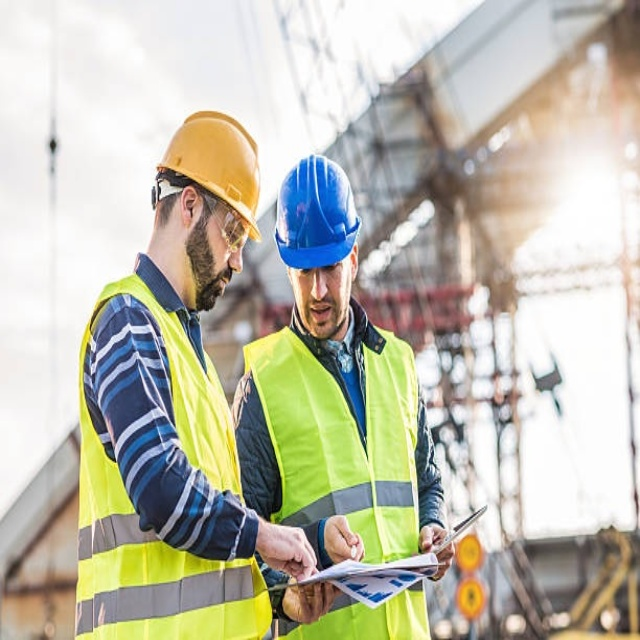Gafas: (188, 182, 255, 252)
Sin_guantes: (257, 518, 318, 580), (280, 576, 338, 626), (321, 514, 363, 566), (420, 525, 457, 581)
Sin_mascara: (199, 266, 241, 308), (303, 293, 340, 335)
